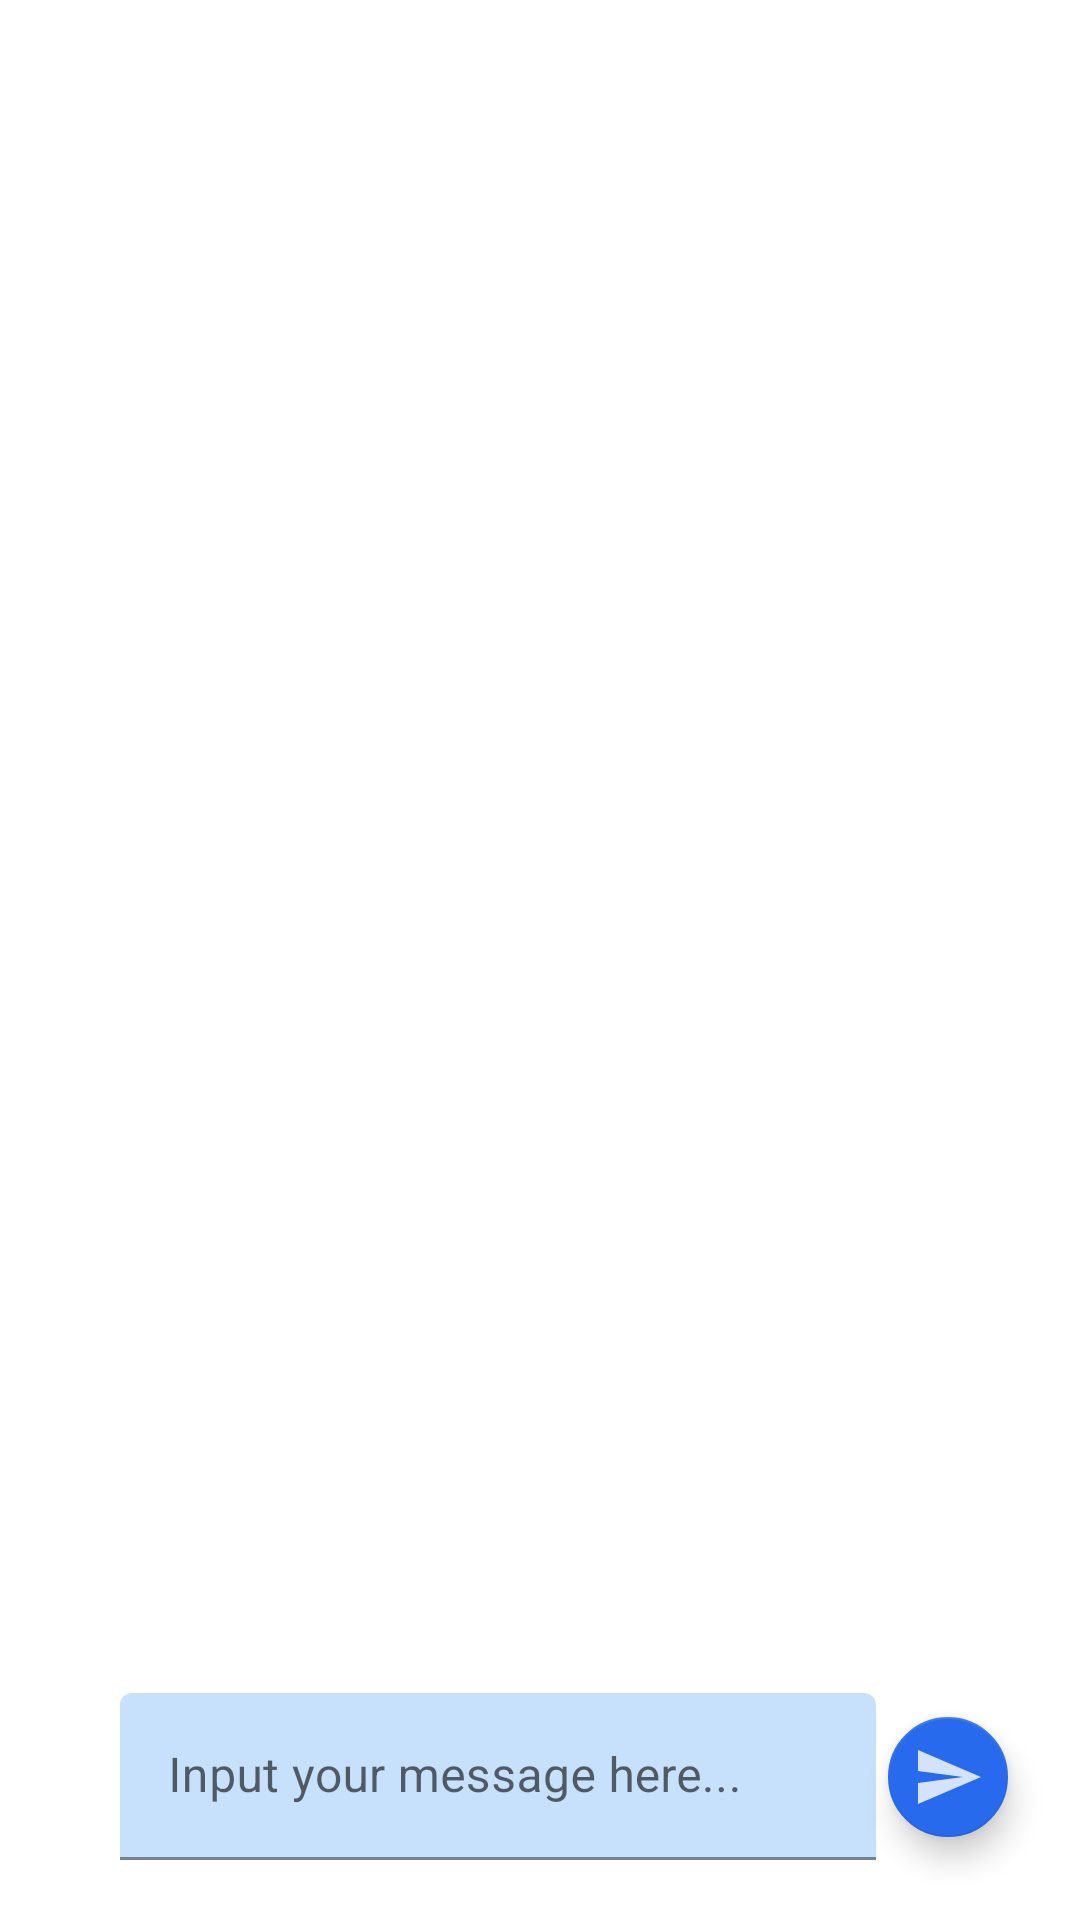

Icon click points for this 1080 × 1920 phone screenshot, format [x,y]:
send: [949,1783]
